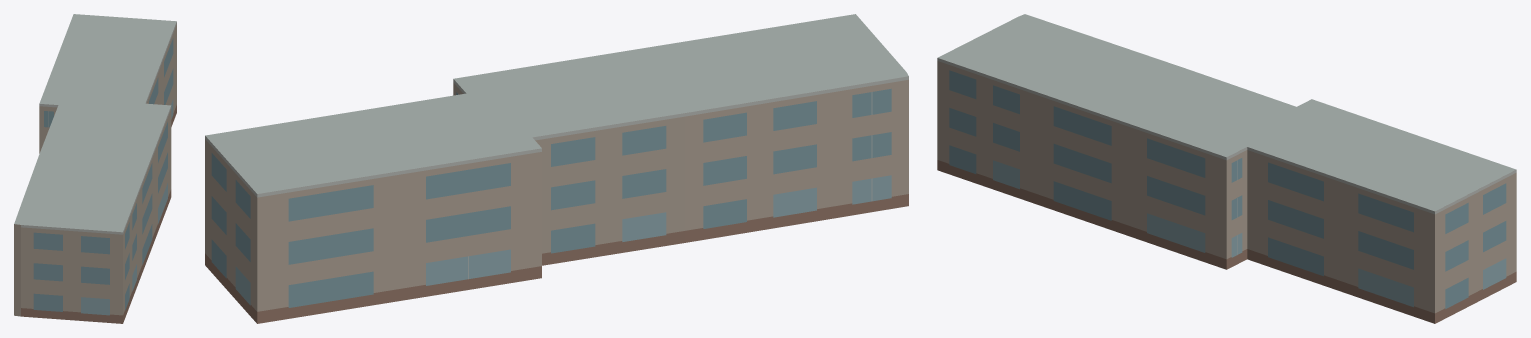
Rendered from survey-upis-32471270.glb.
The picture shows the model from 3 angles, left to right: view 1: azimuth 30°, elevation 25°; view 2: azimuth 150°, elevation 25°; view 3: azimuth 270°, elevation 25°; orthographic projection. The views are drawn at different scales.
Visible parts, largest first — view 1: survey-upis-32471270.tmp; view 2: survey-upis-32471270.tmp; view 3: survey-upis-32471270.tmp.
Boxes of the visible parts, left/top/right/bottom form: survey-upis-32471270.tmp: left=14, top=14, right=176, bottom=323; survey-upis-32471270.tmp: left=205, top=14, right=908, bottom=323; survey-upis-32471270.tmp: left=937, top=14, right=1516, bottom=323.
Bounding box in the file's own units: 34.48 × 9.15 × 42.72.
